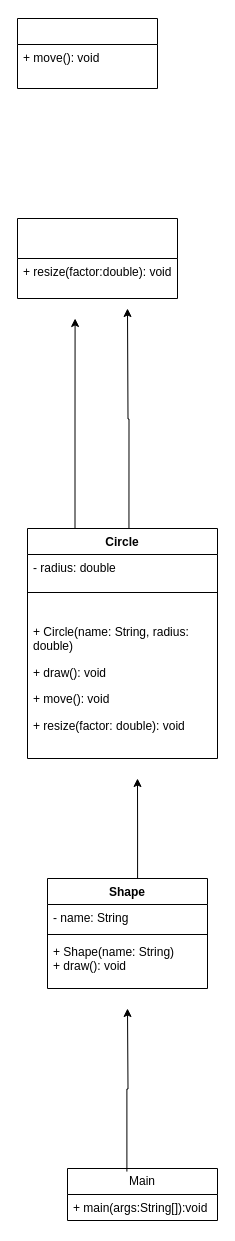
Image size: 235x1241. Some labels were removed from this diagram. The box of each missing label's shape, as (x1, y1, x2, y2) in pixels:
<<interfaces>> Adjustable: (16, 218, 178, 298)
<<interfaces>> Movable: (16, 18, 158, 88)
